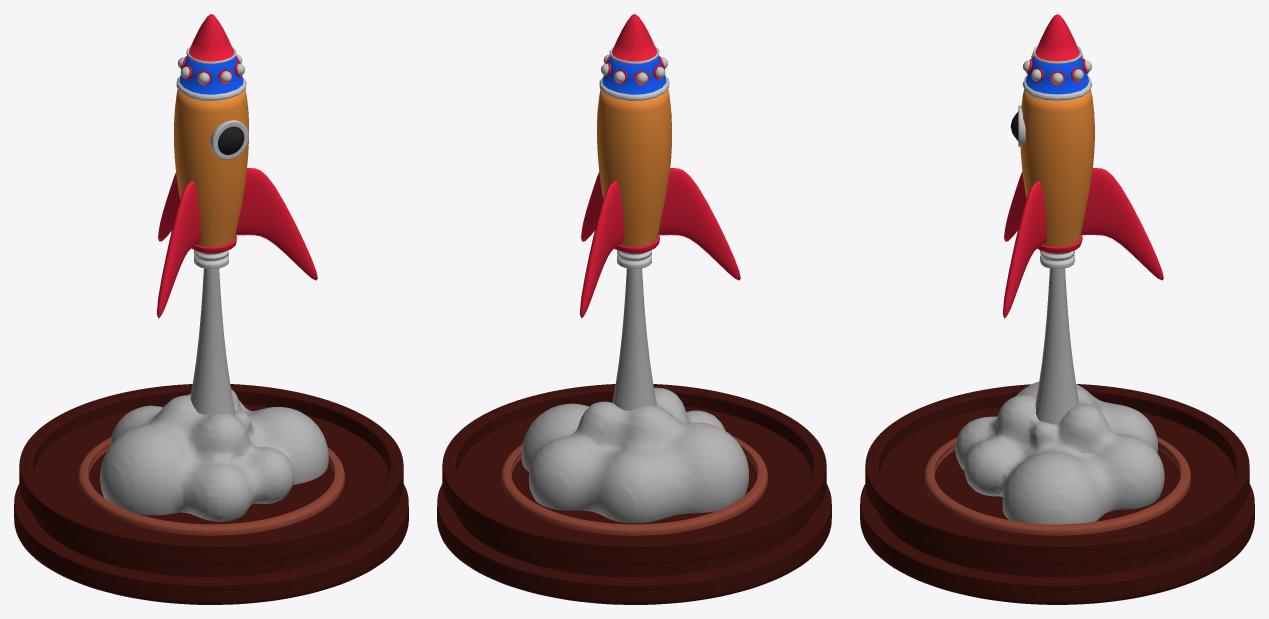
File: rocket.glb
3 renders of one model, left to right at view 1: azimuth 30°, elevation 25°; view 2: azimuth 150°, elevation 25°; view 3: azimuth 270°, elevation 25°, orthographic.
Parts seen in each view (by area): view 1: 円柱, メタボール.013, Cube, 立方体.003, 立方体.001, 立方体, 円.008, 立方体.002; view 2: 円柱, メタボール.013, Cube, 立方体.003, 立方体, 立方体.002, 立方体.001; view 3: 円柱, メタボール.013, Cube, 立方体.003, 立方体.002, 立方体.001, 立方体.
Part boxes in pixels (bbox=[...]): 円柱: bbox=[14, 384, 408, 604]; メタボール.013: bbox=[100, 389, 328, 521]; Cube: bbox=[174, 14, 248, 269]; 立方体.003: bbox=[190, 268, 235, 416]; 立方体.001: bbox=[235, 168, 317, 280]; 立方体: bbox=[156, 180, 200, 318]; 円.008: bbox=[210, 120, 248, 159]; 立方体.002: bbox=[158, 173, 179, 241]; 円柱: bbox=[437, 384, 831, 604]; メタボール.013: bbox=[521, 387, 748, 523]; Cube: bbox=[597, 14, 671, 269]; 立方体.003: bbox=[612, 268, 656, 410]; 立方体: bbox=[658, 168, 740, 280]; 立方体.002: bbox=[579, 180, 624, 318]; 立方体.001: bbox=[581, 172, 603, 241]; 円柱: bbox=[860, 384, 1254, 604]; メタボール.013: bbox=[955, 381, 1164, 524]; Cube: bbox=[1020, 14, 1094, 268]; 立方体.003: bbox=[1035, 268, 1078, 424]; 立方体.002: bbox=[1081, 168, 1163, 280]; 立方体.001: bbox=[1002, 180, 1046, 318]; 立方体: bbox=[1004, 171, 1026, 241].
Bounding box in the file's own units: 16.65 × 23.75 × 16.65.
